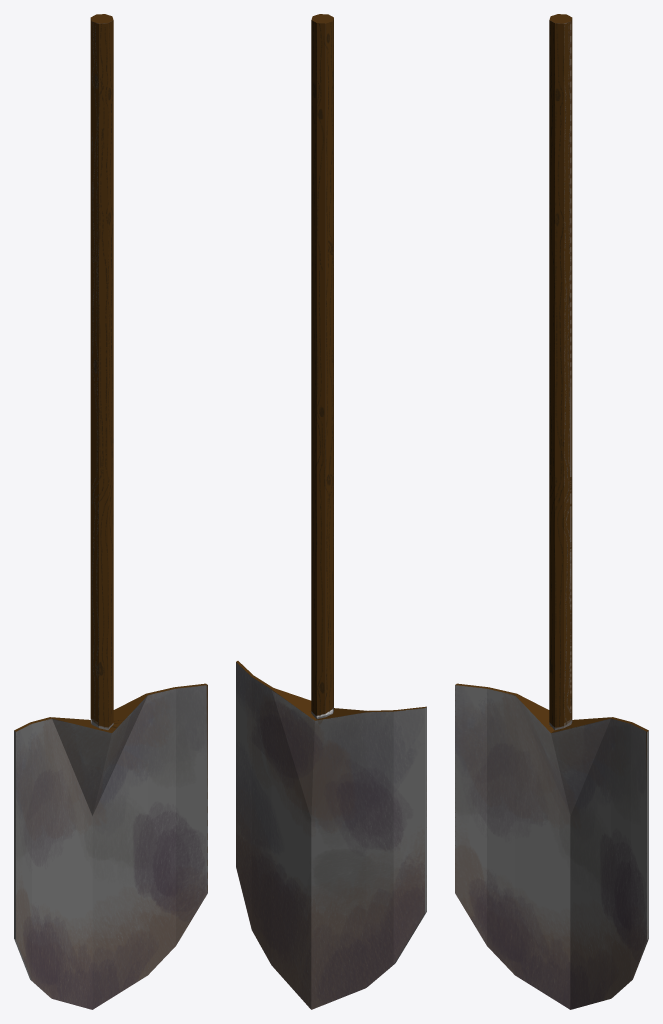
Rendered from pala_.fbx.
The picture shows the model from 3 angles, left to right: view 1: azimuth 30°, elevation 25°; view 2: azimuth 150°, elevation 25°; view 3: azimuth 330°, elevation 25°; orthographic projection.
Parts seen in each view (by area): view 1: Pala_term; view 2: Pala_term; view 3: Pala_term.
Part boxes in pixels (x1,y1,x2,y2): Pala_term: (14, 14, 207, 1009); Pala_term: (236, 14, 426, 1009); Pala_term: (455, 14, 648, 1009).
Bounding box in the file's own units: 28 × 139 × 5.42.
1 material, 1 textured.
